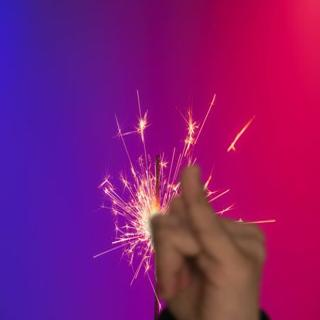HAVE: (136, 159, 289, 320)
